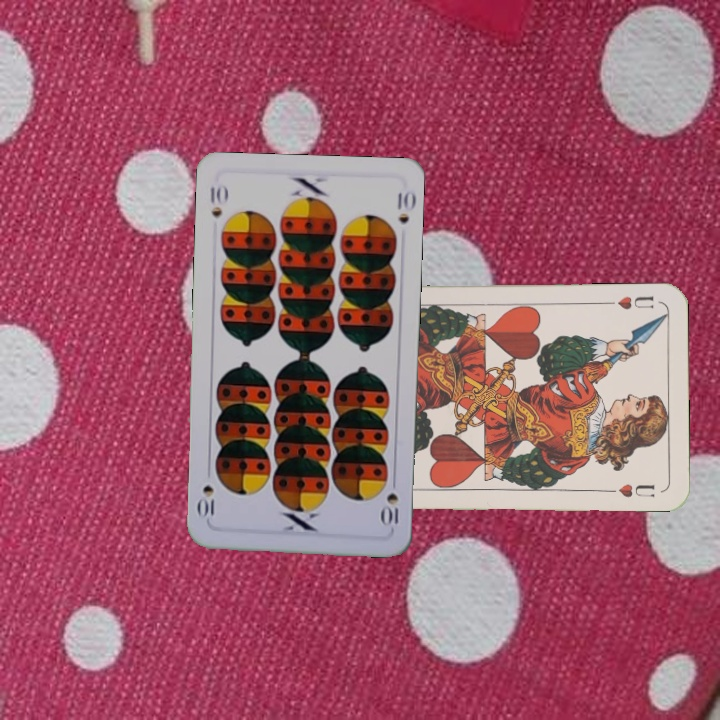HU: (603, 292, 657, 312)
S10: (206, 181, 230, 221), (378, 489, 401, 529)
